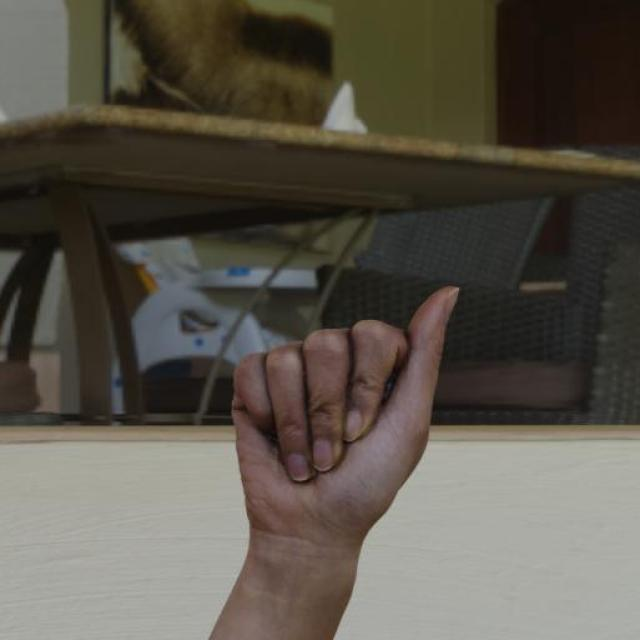A: (228, 280, 464, 542)
